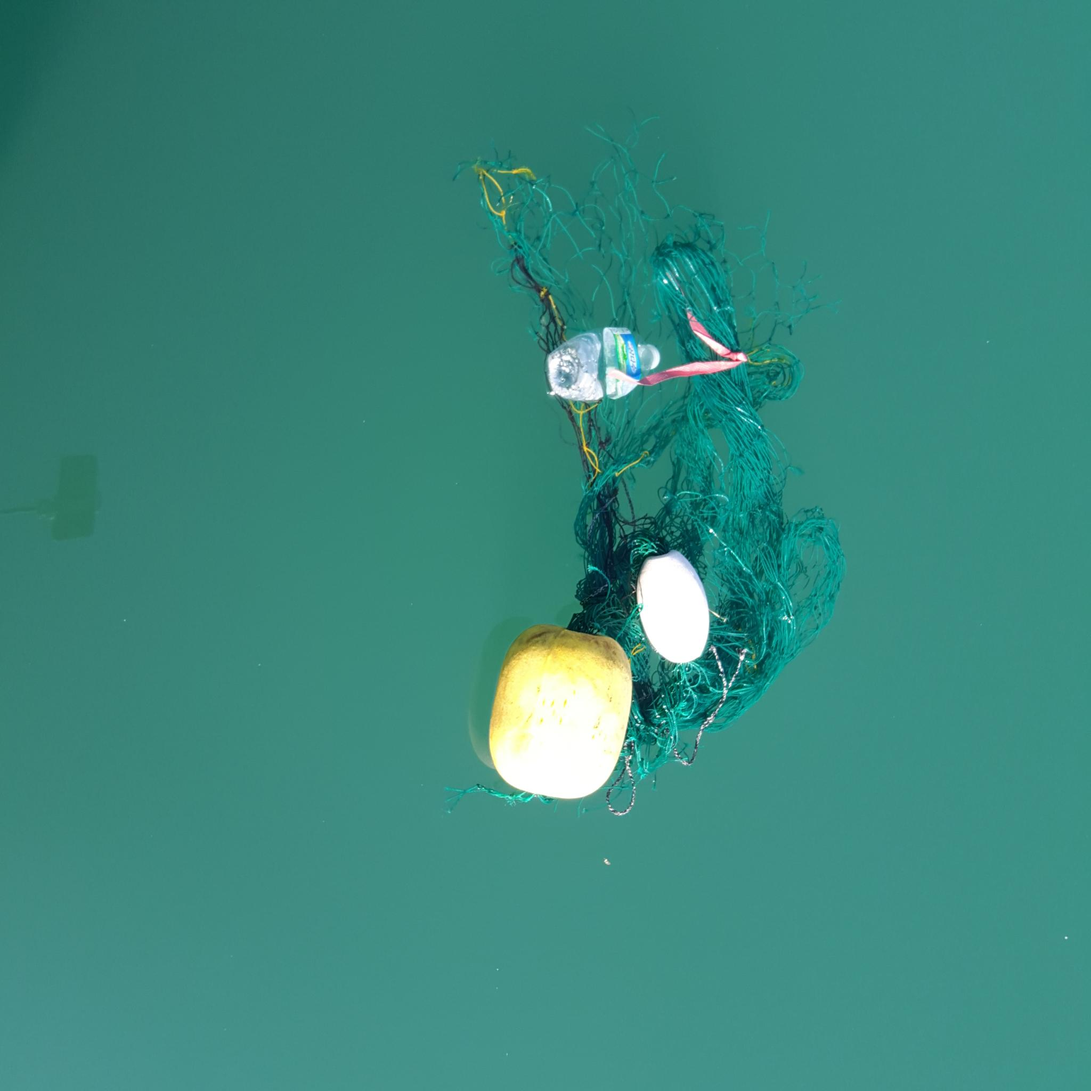sampah_terapung: (444, 105, 848, 820), (490, 625, 633, 800), (548, 327, 661, 402), (637, 550, 710, 663)
